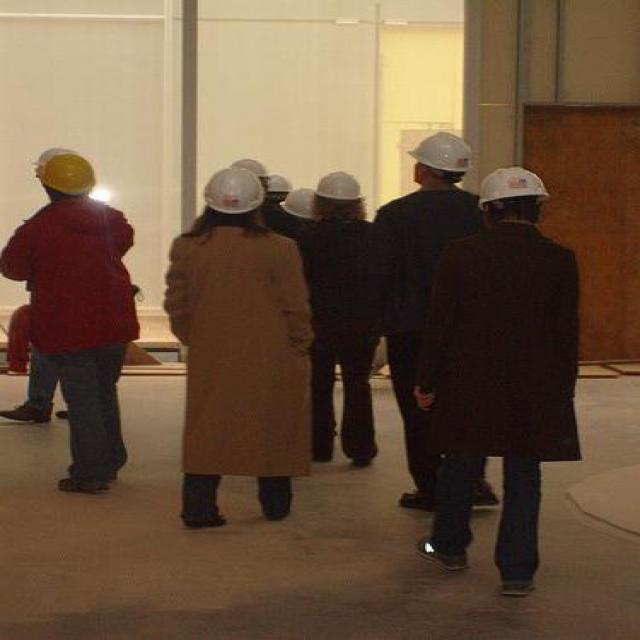Safety-Helmet: (193, 159, 278, 221), (469, 161, 562, 214), (24, 142, 106, 200), (401, 126, 485, 180), (304, 165, 370, 209)
